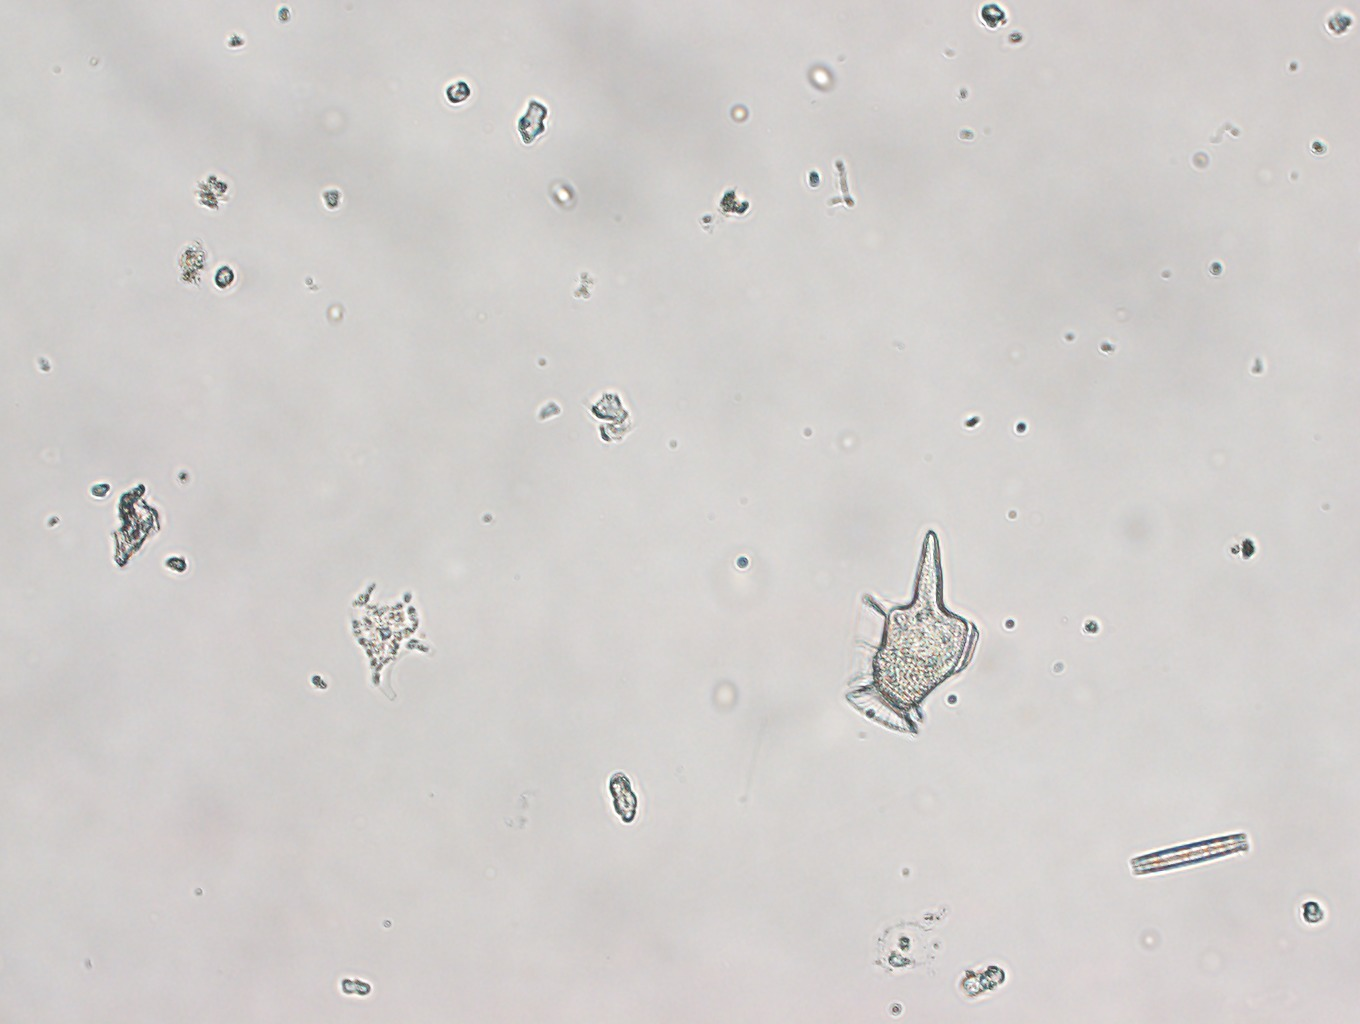dinophysis caudata: (836, 526, 980, 742)
